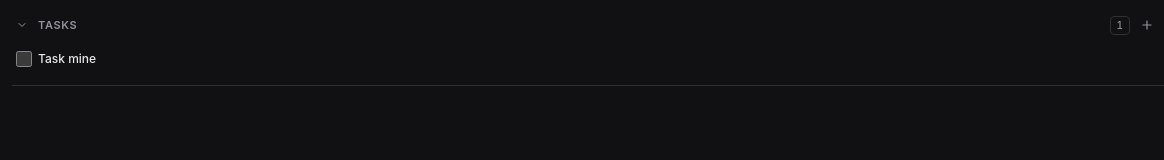
Test: ThreadTasks › keeps the checkbox state and shows the error when marking done fails
Step 1. Click the checkbox named "Mark Task mine done" → [24, 59], box x1=16 y1=51 x2=32 y2=67
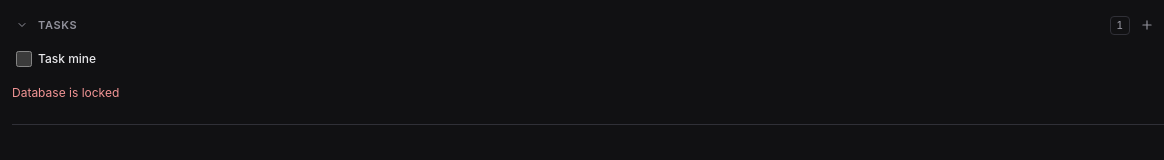
Now the message reads "Database is locked", box x1=12 y1=85 x2=119 y2=100
